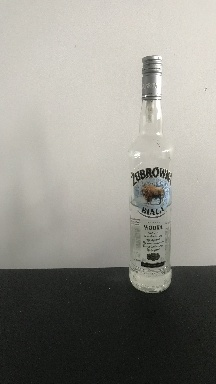butelka: (127, 51, 173, 296)
